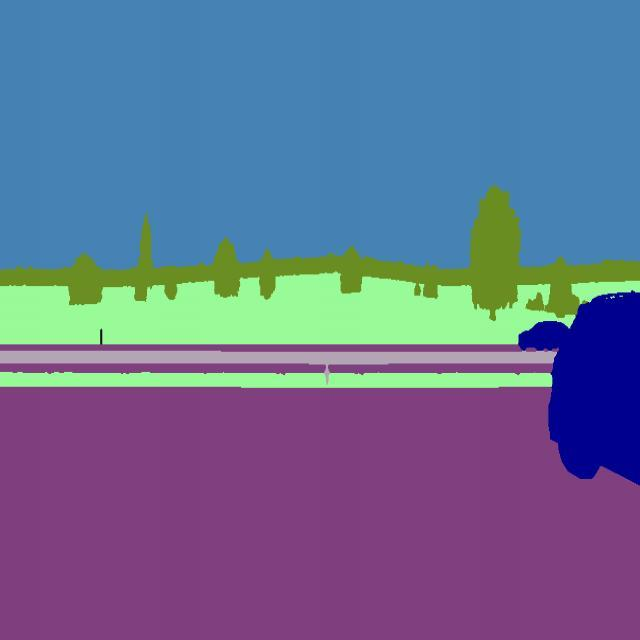safe: (515, 312, 573, 354)
unsafe: (541, 277, 640, 502)
